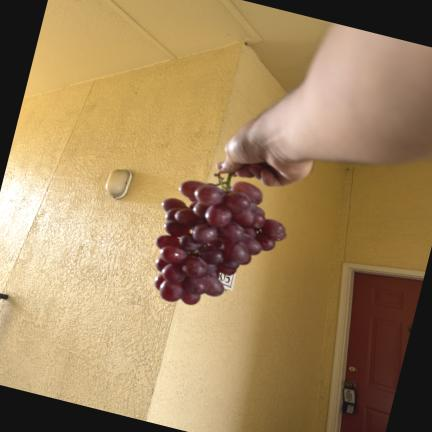grape_cluster: (154, 173, 285, 304)
